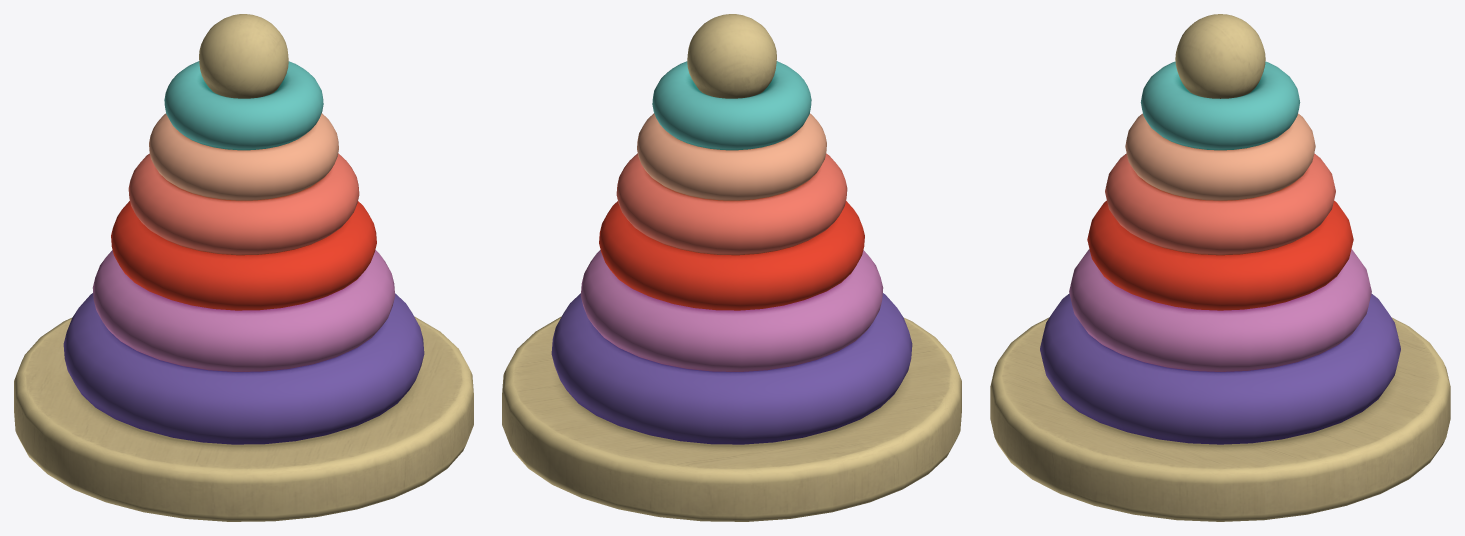
File: prp_toyRingsStack_model.FBX
3 views of the same model, side by side, from view 1: azimuth 30°, elevation 25°; view 2: azimuth 150°, elevation 25°; view 3: azimuth 270°, elevation 25° (orthographic).
Visible parts, largest first — view 1: prp_toyRingsStack_model; view 2: prp_toyRingsStack_model; view 3: prp_toyRingsStack_model.
Part boxes in pixels (x1,y1,x2,y2): prp_toyRingsStack_model: (14, 14, 473, 521); prp_toyRingsStack_model: (502, 14, 961, 521); prp_toyRingsStack_model: (990, 14, 1450, 521).
Size of what is drawn, in the model's own units: 21.12 by 21.12 by 20.8.
